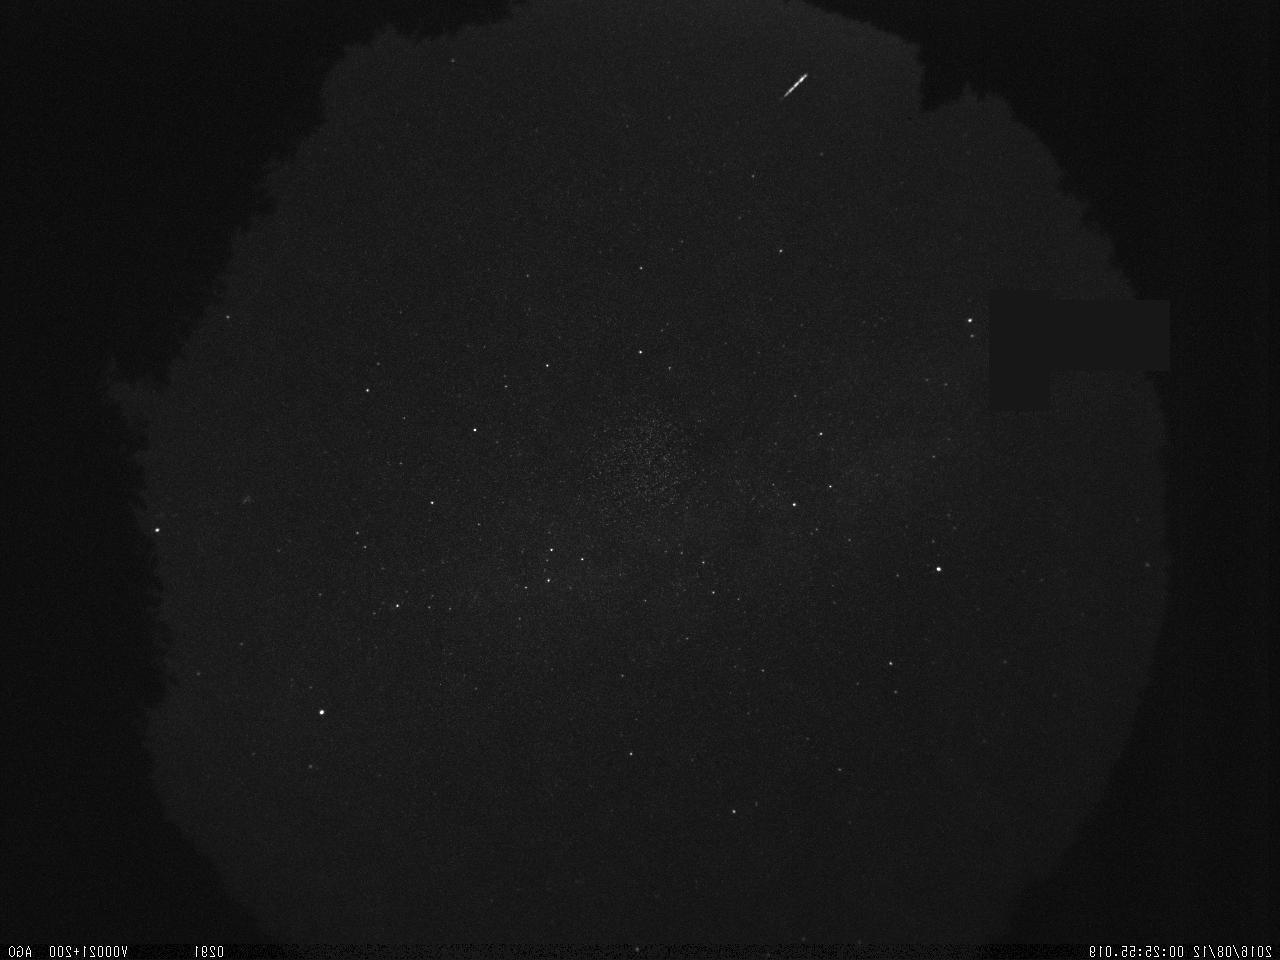meteor: (773, 65, 821, 107)
